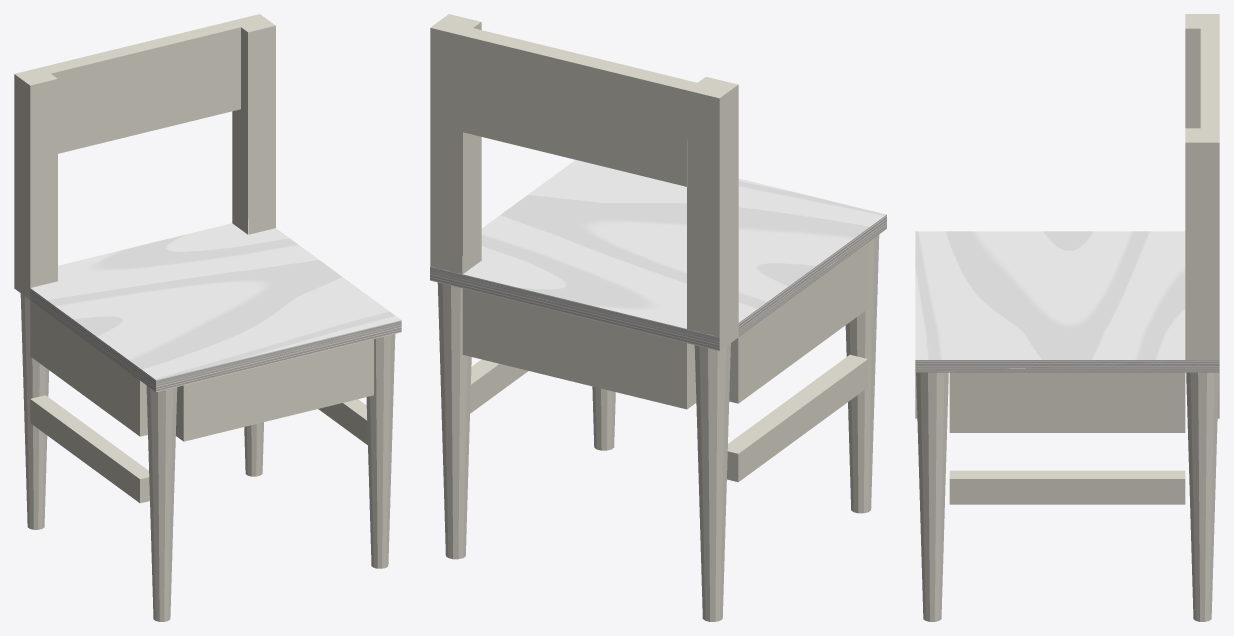
File: LIT-KCH-std.glb
3 renders of one model, left to right at view 1: azimuth 30°, elevation 25°; view 2: azimuth 150°, elevation 25°; view 3: azimuth 270°, elevation 25°, orthographic. The views are drawn at different scales.
Parts seen in each view (by area): view 1: seat:sheet:eyJtIjoicGx5Iiwic2lkZSI6ImZhY2UiLCJzZWVkIjo2LCJ2Z, leg-bl:pbr, rail-f:pbr, leg-br:pbr, back-top:pbr, back-mid:pbr, rail-l:pbr, leg-fl:pbr, leg-fr:pbr, stretcher-l:pbr, seat:sheet:eyJtIjoicGx5Iiwic2lkZSI6ImVkZ2UtbG9uZyIsInNlZWQiO, seat:sheet:eyJtIjoicGx5Iiwic2lkZSI6ImVkZ2UtZW5kIiwic2VlZCI6N (+1 smaller); view 2: seat:sheet:eyJtIjoicGx5Iiwic2lkZSI6ImZhY2UiLCJzZWVkIjo2LCJ2Z, leg-bl:pbr, leg-br:pbr, back-top:pbr, rail-b:pbr, rail-l:pbr, back-mid:pbr, stretcher-l:pbr, leg-fl:pbr, seat:sheet:eyJtIjoicGx5Iiwic2lkZSI6ImVkZ2UtbG9uZyIsInNlZWQiO, seat:sheet:eyJtIjoicGx5Iiwic2lkZSI6ImVkZ2UtZW5kIiwic2VlZCI6N, stretcher-r:pbr (+1 smaller); view 3: seat:sheet:eyJtIjoicGx5Iiwic2lkZSI6ImZhY2UiLCJzZWVkIjo2LCJ2Z, leg-br:pbr, rail-r:pbr, stretcher-r:pbr, leg-fr:pbr, seat:sheet:eyJtIjoicGx5Iiwic2lkZSI6ImVkZ2UtZW5kIiwic2VlZCI6N, leg-bl:pbr, back-top:pbr.
Boxes of the visible parts, box(x1,y1,x2,y2) form: seat:sheet:eyJtIjoicGx5Iiwic2lkZSI6ImZhY2UiLCJzZWVkIjo2LCJ2Z: box(30, 219, 401, 379); leg-bl:pbr: box(14, 67, 57, 529); rail-f:pbr: box(176, 339, 373, 441); leg-br:pbr: box(232, 14, 275, 476); back-top:pbr: box(42, 21, 240, 113); back-mid:pbr: box(58, 69, 240, 153); rail-l:pbr: box(30, 300, 147, 436); leg-fl:pbr: box(146, 385, 177, 621); leg-fr:pbr: box(366, 334, 395, 568); stretcher-l:pbr: box(30, 395, 149, 503); seat:sheet:eyJtIjoicGx5Iiwic2lkZSI6ImVkZ2UtbG9uZyIsInNlZWQiO: box(156, 320, 401, 391); seat:sheet:eyJtIjoicGx5Iiwic2lkZSI6ImVkZ2UtZW5kIiwic2VlZCI6N: box(30, 288, 155, 391); seat:sheet:eyJtIjoicGx5Iiwic2lkZSI6ImZhY2UiLCJzZWVkIjo2LCJ2Z: box(462, 160, 886, 328); leg-bl:pbr: box(687, 77, 738, 621); leg-br:pbr: box(430, 14, 481, 559); back-top:pbr: box(462, 28, 697, 156); rail-b:pbr: box(462, 288, 696, 409); rail-l:pbr: box(729, 243, 867, 403); back-mid:pbr: box(462, 102, 687, 186); stretcher-l:pbr: box(727, 354, 867, 482); leg-fl:pbr: box(845, 234, 879, 513); seat:sheet:eyJtIjoicGx5Iiwic2lkZSI6ImVkZ2UtbG9uZyIsInNlZWQiO: box(430, 266, 719, 350); seat:sheet:eyJtIjoicGx5Iiwic2lkZSI6ImVkZ2UtZW5kIiwic2VlZCI6N: box(738, 215, 886, 336); stretcher-r:pbr: box(470, 359, 527, 413); seat:sheet:eyJtIjoicGx5Iiwic2lkZSI6ImZhY2UiLCJzZWVkIjo2LCJ2Z: box(915, 231, 1185, 359); leg-br:pbr: box(1185, 128, 1219, 621); rail-r:pbr: box(949, 372, 1185, 432); stretcher-r:pbr: box(949, 470, 1185, 504); leg-fr:pbr: box(916, 372, 948, 621); seat:sheet:eyJtIjoicGx5Iiwic2lkZSI6ImVkZ2UtZW5kIiwic2VlZCI6N: box(915, 360, 1219, 372); leg-bl:pbr: box(1185, 14, 1219, 127); back-top:pbr: box(1200, 28, 1219, 128).
Bounding box in the file's own units: 0.3201 × 0.56 × 0.32.
15 materials, 3 textured.
